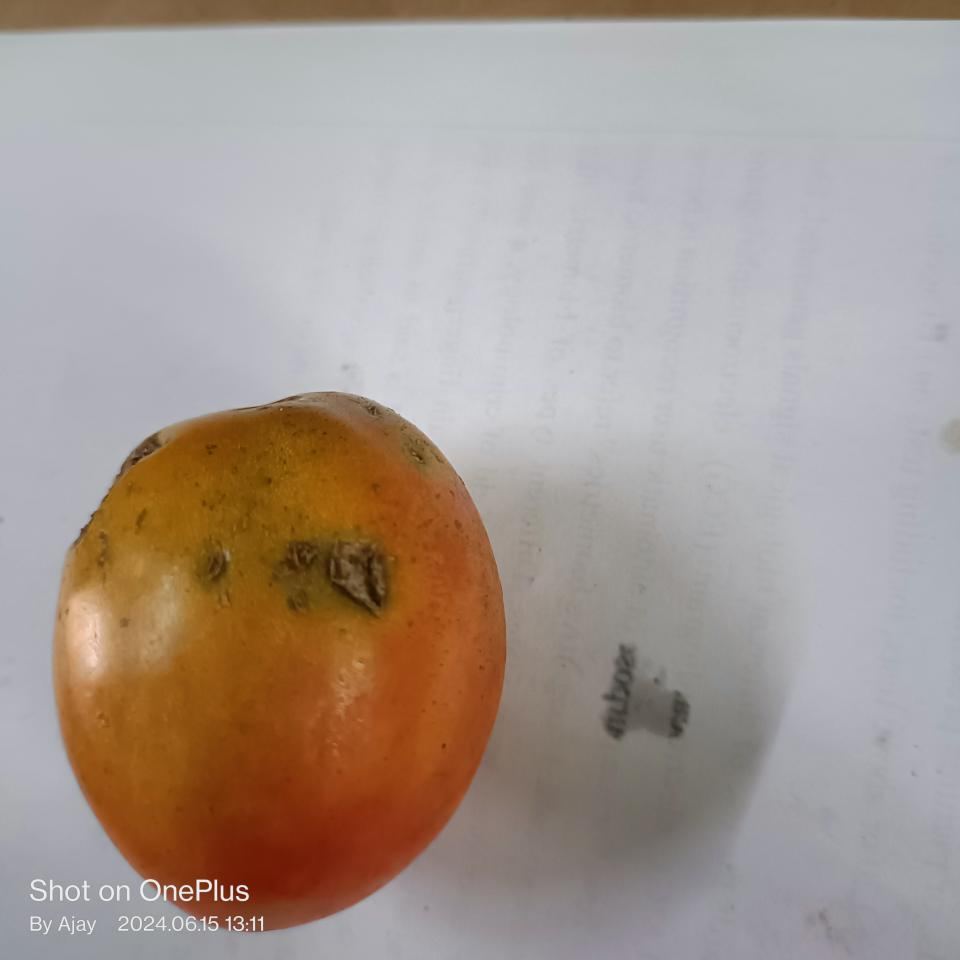Bacterial_Spot: (193, 530, 392, 621)
